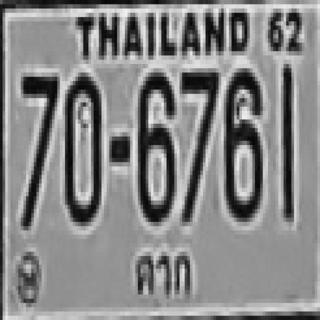N00: (64, 73, 100, 222)
N01: (280, 64, 293, 218)
N06: (135, 68, 174, 222), (222, 64, 259, 218)
N07: (180, 70, 218, 220), (20, 73, 56, 226), (181, 70, 217, 198), (21, 74, 57, 177)
P69: (130, 246, 195, 297)
